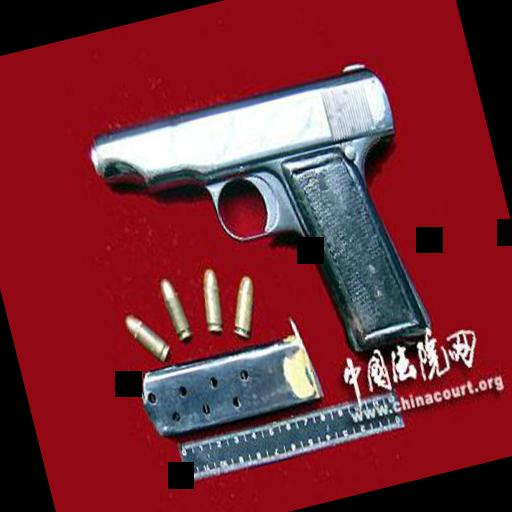Handgun: (78, 54, 448, 412)
